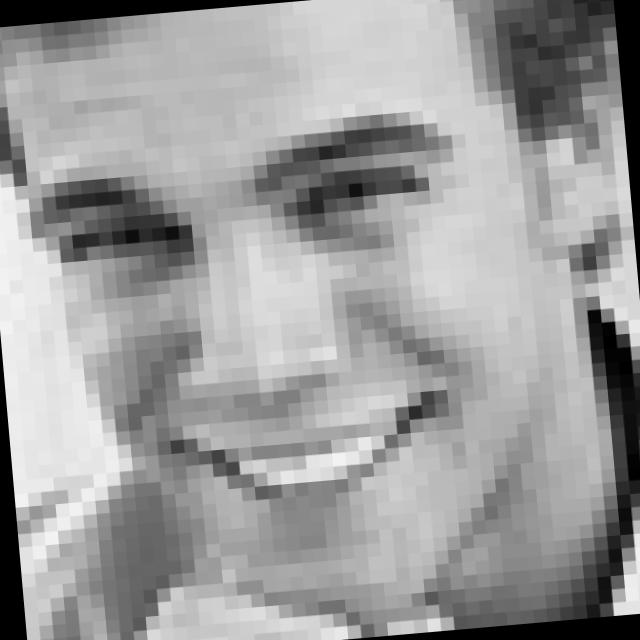happy: (26, 106, 489, 544)
